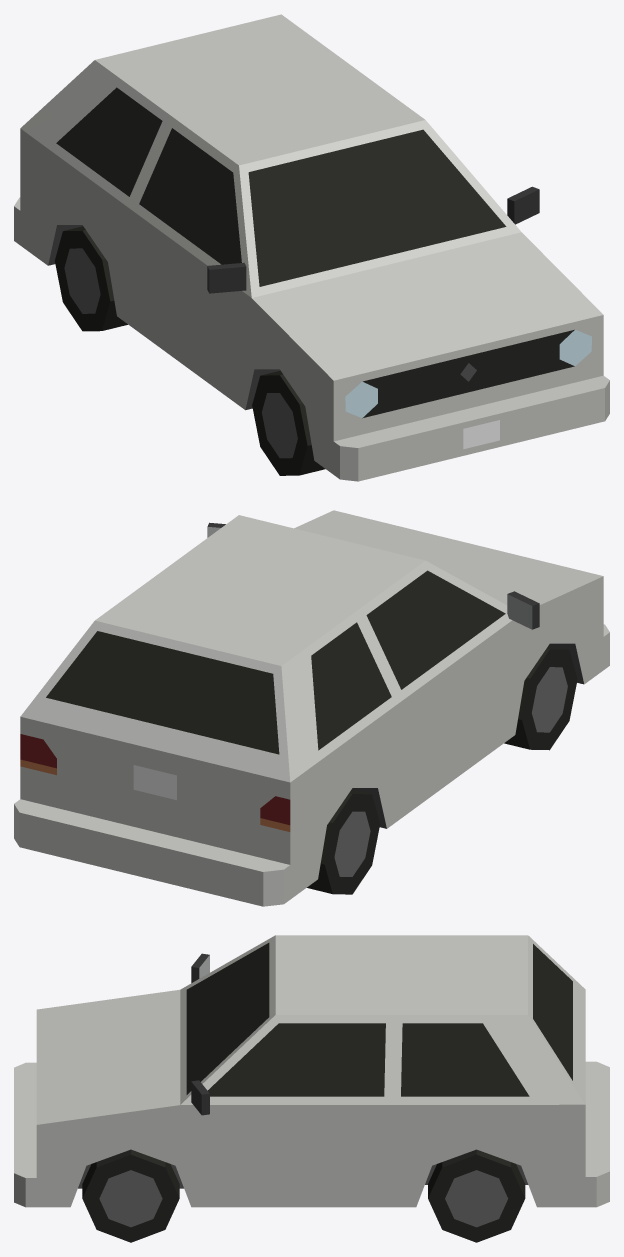
The model's file is Veh_Coupe_02_White.glb.
3 renders of one model, top to bottom at view 1: azimuth 30°, elevation 25°; view 2: azimuth 150°, elevation 25°; view 3: azimuth 270°, elevation 25°, orthographic. The views are drawn at different scales.
Visible parts, largest first — view 1: Coupe_02_White, Wheel_RR, Wheel_FR; view 2: Coupe_02_White, Wheel_RR, Wheel_FR; view 3: Coupe_02_White, Wheel_FL, Wheel_RL.
Part boxes in pixels (bbox=[...]): Coupe_02_White: bbox=[14, 14, 609, 481]; Wheel_RR: bbox=[55, 226, 127, 331]; Wheel_FR: bbox=[252, 370, 325, 475]; Coupe_02_White: bbox=[14, 510, 609, 906]; Wheel_RR: bbox=[307, 789, 380, 894]; Wheel_FR: bbox=[504, 645, 577, 750]; Coupe_02_White: bbox=[14, 935, 609, 1207]; Wheel_FL: bbox=[82, 1149, 179, 1242]; Wheel_RL: bbox=[428, 1149, 525, 1242].
Size of the model in its own units: 1.12 by 0.78 by 2.01.
1 material, 1 textured.
